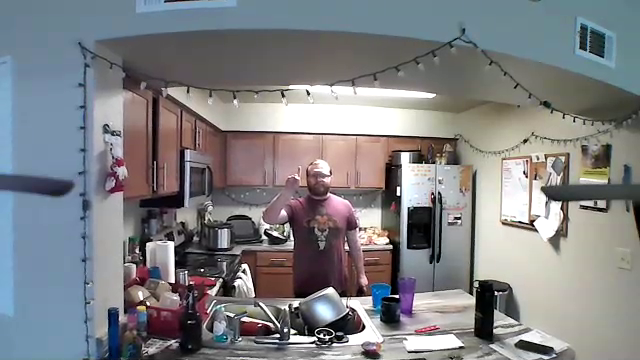up: (282, 164, 303, 194)
